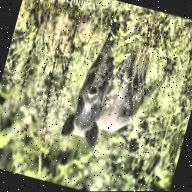boar: (58, 18, 170, 162)
